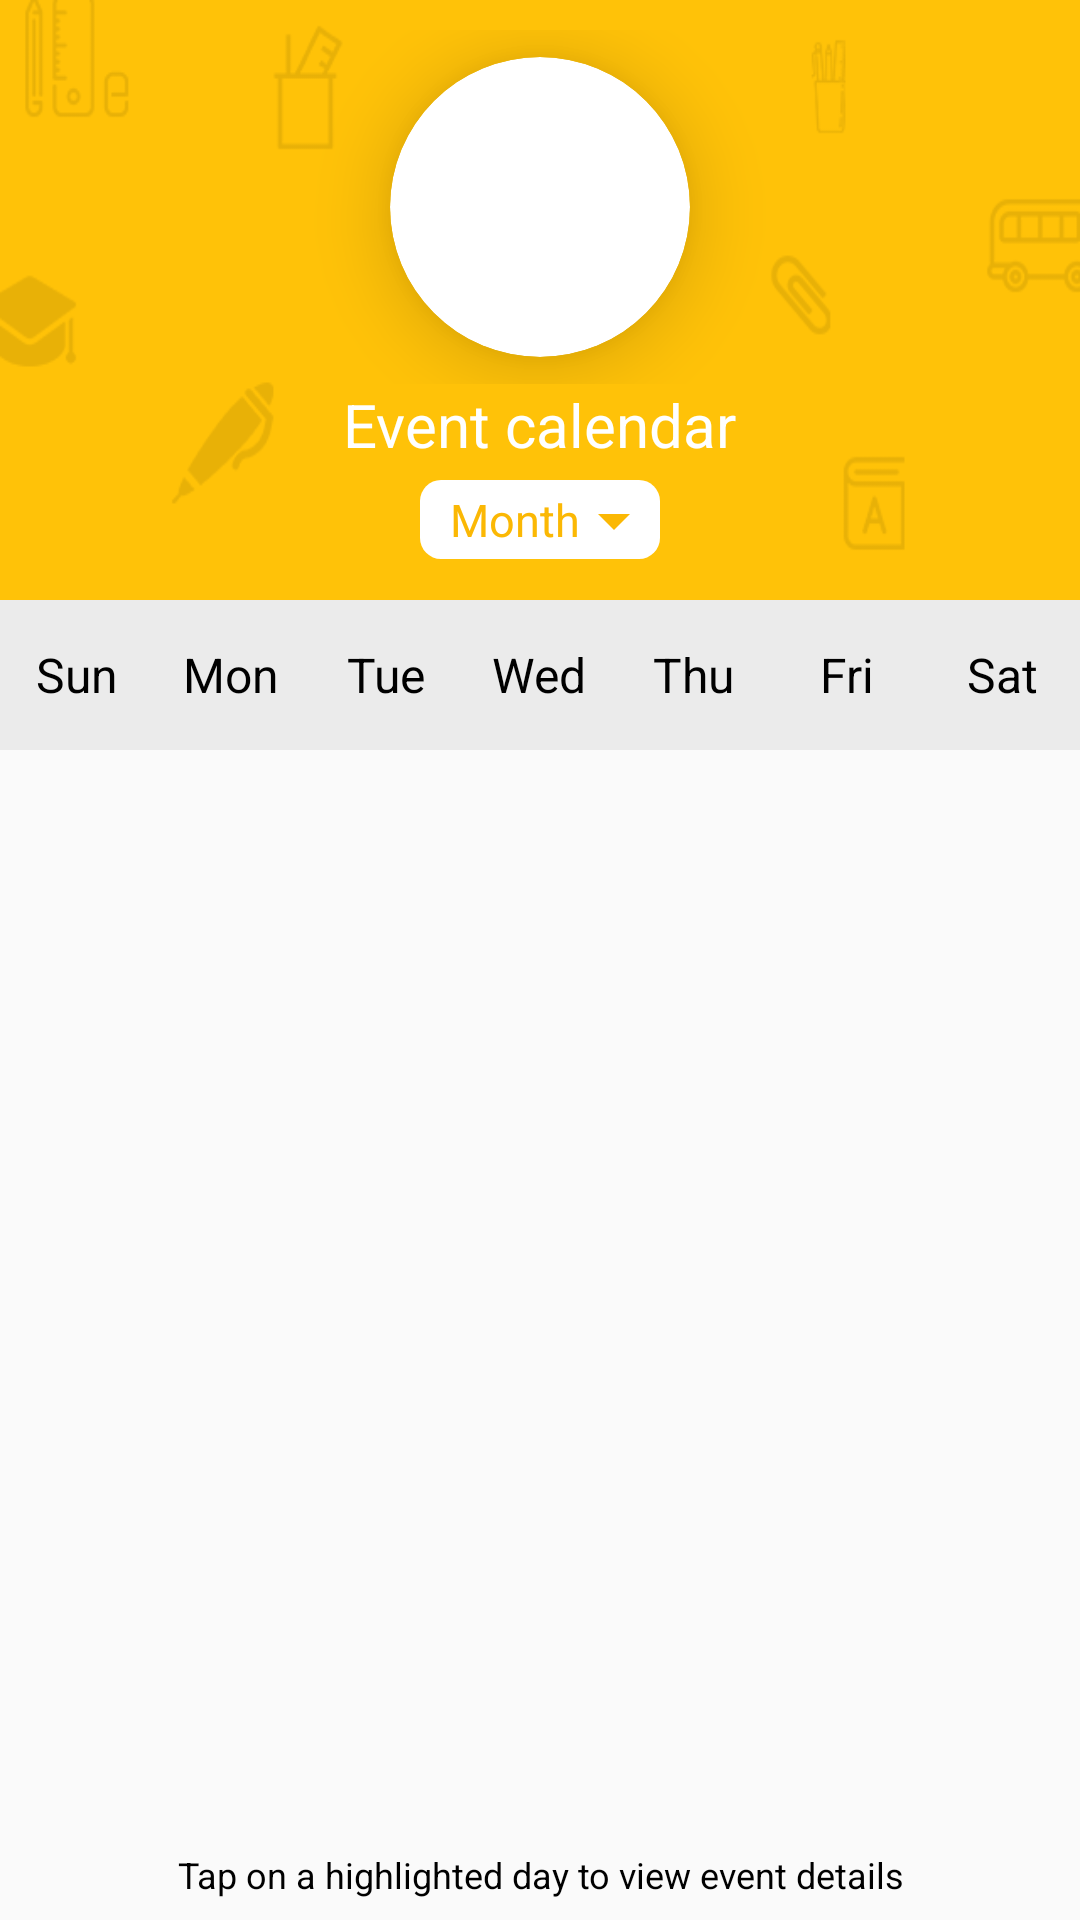

Icon bounding boxes for this 1080px×1920px phone screenshot, format {"left": x1, "top": y1, "right": x2, "bottom": y2}:
drop down app: {"left": 598, "top": 514, "right": 630, "bottom": 530}
